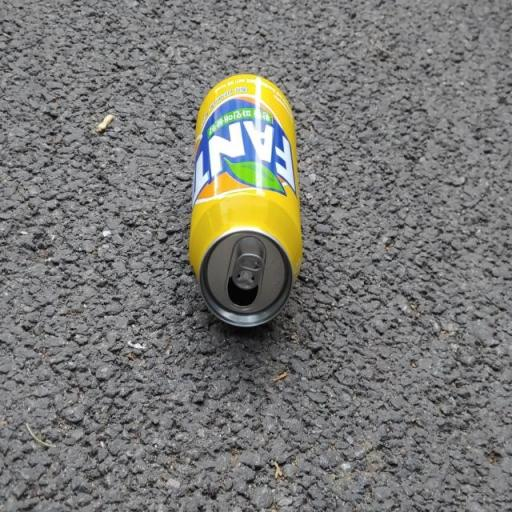metal: (176, 61, 334, 331)
